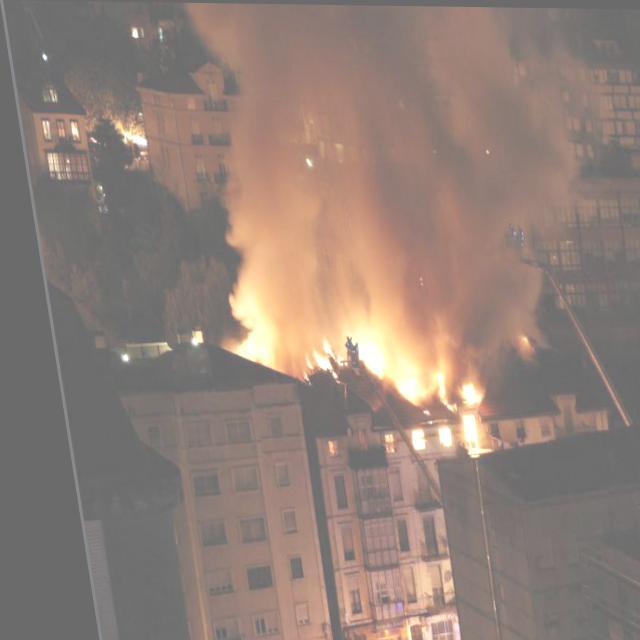Fire: (286, 326, 439, 403), (448, 376, 474, 404)
